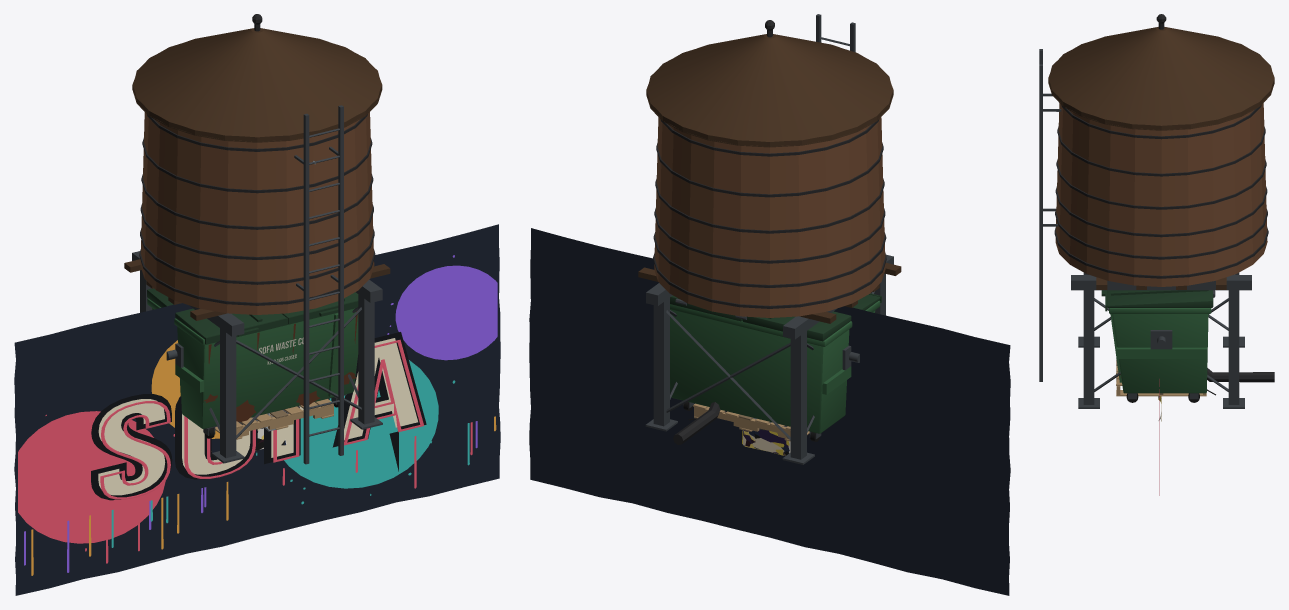
The model's file is street.glb.
The picture shows the model from 3 angles, left to right: view 1: azimuth 30°, elevation 25°; view 2: azimuth 150°, elevation 25°; view 3: azimuth 270°, elevation 25°; orthographic projection. The views are drawn at different scales.
Parts seen in each view (by area): view 1: mural, water_tank, dumpster, pallet; view 2: mural, water_tank, dumpster, pallet; view 3: water_tank, dumpster, pallet.
Boxes of the visible parts, bbox=[...] form: mural: bbox=[14, 224, 500, 595]; water_tank: bbox=[124, 14, 390, 464]; dumpster: bbox=[147, 288, 358, 438]; pallet: bbox=[215, 399, 333, 439]; mural: bbox=[529, 228, 1010, 595]; water_tank: bbox=[638, 14, 901, 464]; dumpster: bbox=[670, 293, 881, 441]; pallet: bbox=[693, 403, 809, 441]; water_tank: bbox=[1039, 14, 1274, 408]; dumpster: bbox=[1101, 290, 1215, 402]; pallet: bbox=[1116, 359, 1206, 396].
Bounding box in the file's own units: 5.62 × 5.78 × 2.6.
